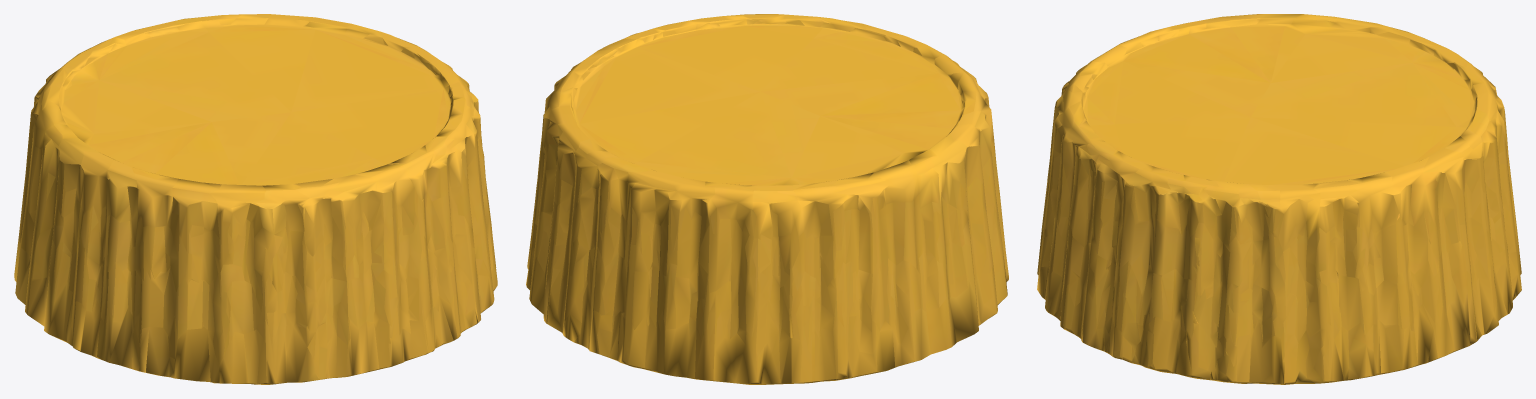
The model's file is projectile-cap.glb.
3 views of the same model, side by side, from view 1: azimuth 30°, elevation 25°; view 2: azimuth 150°, elevation 25°; view 3: azimuth 270°, elevation 25° (orthographic).
Size of the model in its own units: 1.9 by 0.8018 by 1.9.
1 material, 1 textured.
